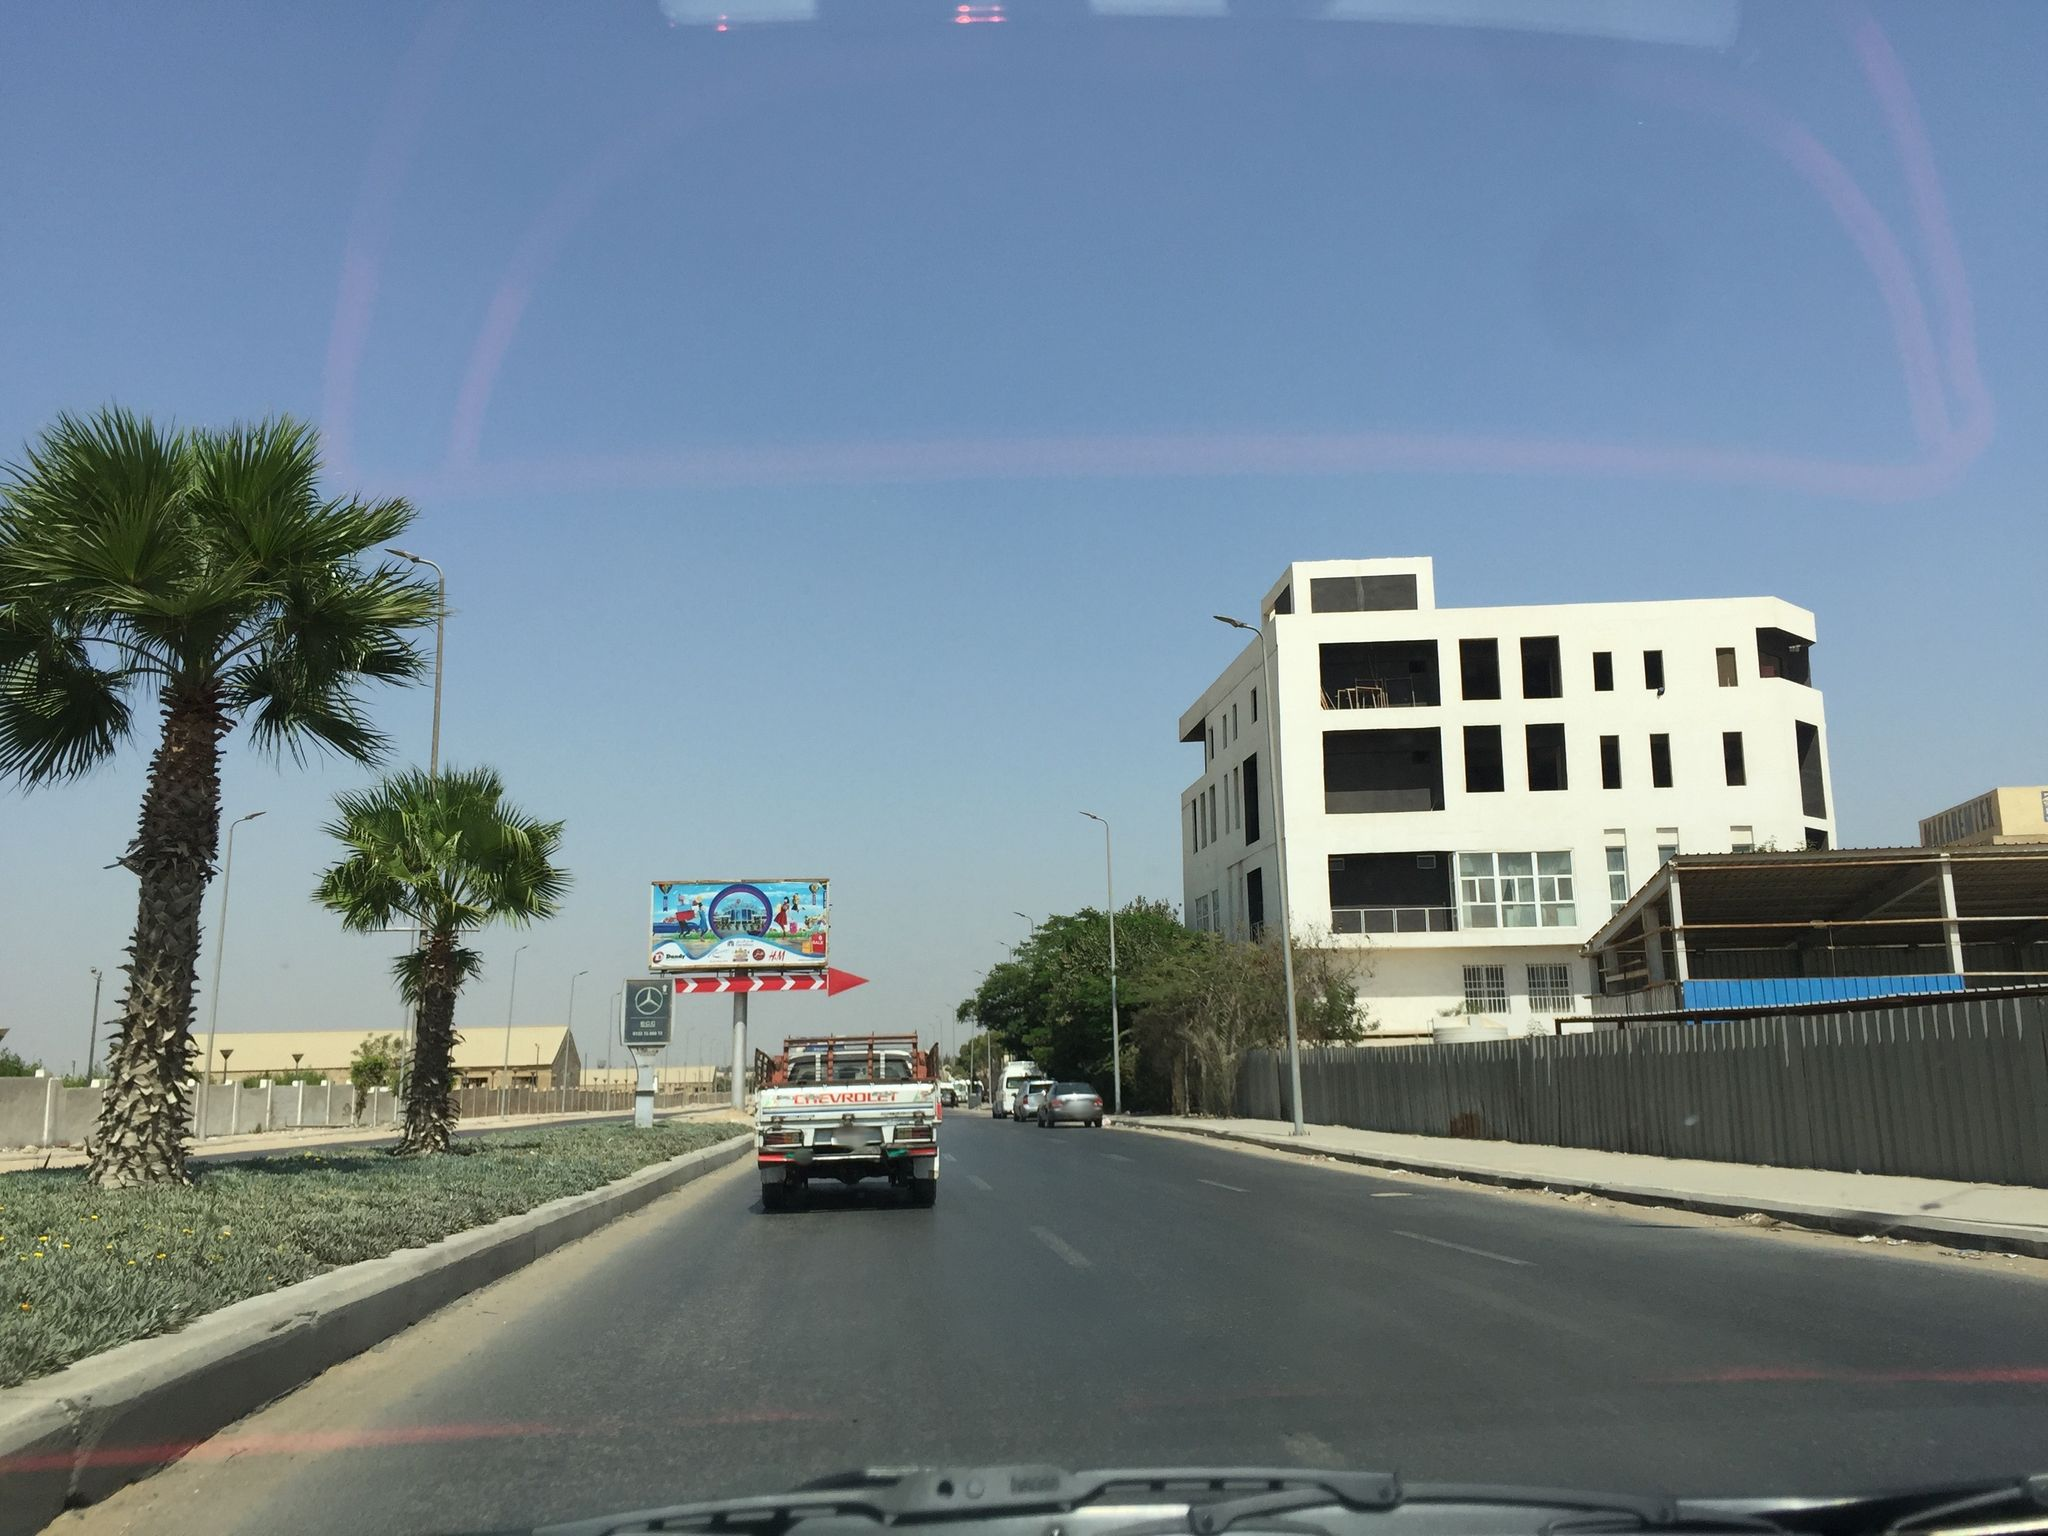car: (1035, 1081, 1105, 1128), (992, 1060, 1043, 1120), (1011, 1079, 1056, 1121)
truck: (751, 1029, 947, 1212)
